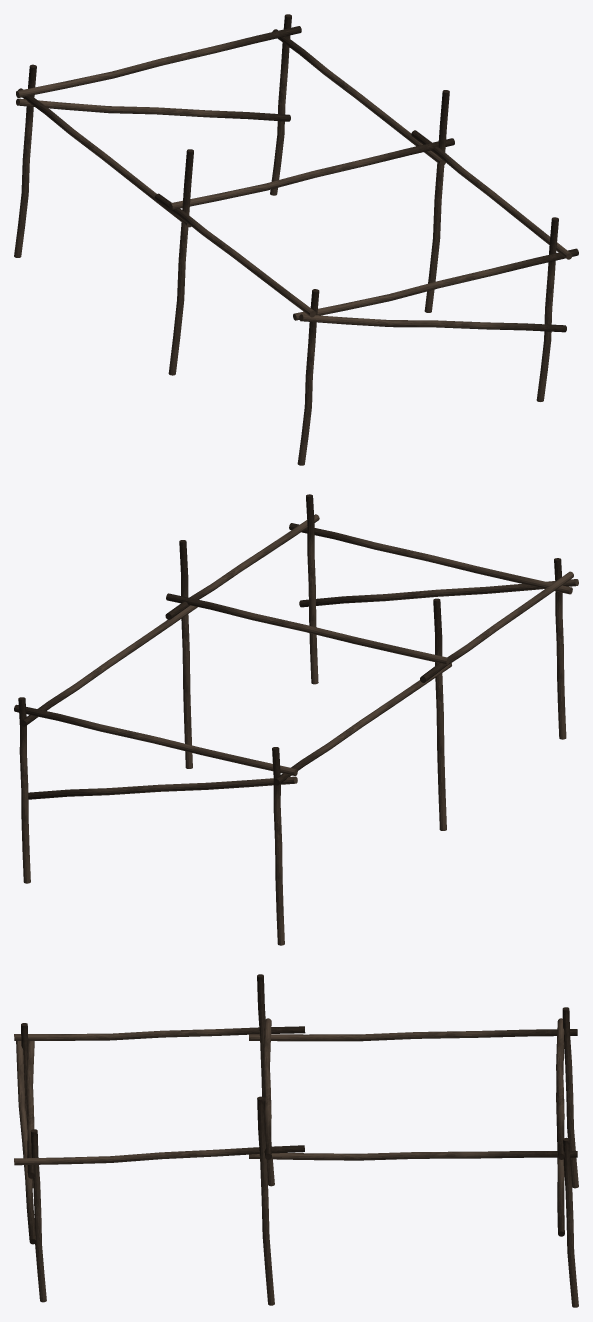
Rendered from MarketStand.fbx.
3 views of the same model, one above another, from view 1: azimuth 30°, elevation 25°; view 2: azimuth 150°, elevation 25°; view 3: azimuth 270°, elevation 25° (orthographic). The views are drawn at different scales.
Visible parts, largest first — view 1: MKScaff_PoleVer91_LOD0, MKScaff_PoleVer86_LOD0, MKScaff_PoleVer85_LOD0, MKScaff_PoleVer93_LOD0, MKScaff_PoleVer92_LOD0, MKScaff_PoleVer82_LOD0, MKScaff_PoleVer69_LOD0, MKScaff_PoleVer87_LOD0, MKScaff_PoleVer90_LOD0, MKScaff_PoleVer89_LOD0, MKScaff_PoleVer84_LOD0, MKScaff_PoleVer88_LOD0 (+3 smaller); view 2: MKScaff_PoleVer86_LOD0, MKScaff_PoleVer91_LOD0, MKScaff_PoleVer85_LOD0, MKScaff_PoleVer92_LOD0, MKScaff_PoleVer93_LOD0, MKScaff_PoleVer82_LOD0, MKScaff_PoleVer69_LOD0, MKScaff_PoleVer84_LOD0, MKScaff_PoleVer90_LOD0, MKScaff_PoleVer71_LOD0, MKScaff_PoleVer81_LOD0, MKScaff_PoleVer88_LOD0 (+3 smaller); view 3: MKScaff_PoleVer88_LOD0, MKScaff_PoleVer90_LOD0, MKScaff_PoleVer89_LOD0, MKScaff_PoleVer87_LOD0, MKScaff_PoleVer69_LOD0, MKScaff_PoleVer93_LOD0, MKScaff_PoleVer81_LOD0, MKScaff_PoleVer84_LOD0, MKScaff_PoleVer71_LOD0, MKScaff_PoleVer91_LOD0, MKScaff_PoleVer86_LOD0, MKScaff_PoleVer85_LOD0 (+2 smaller).
Boxes of the visible parts, x1,y1,x2,y2 form: MKScaff_PoleVer91_LOD0: [16, 26, 301, 97]; MKScaff_PoleVer86_LOD0: [169, 138, 454, 210]; MKScaff_PoleVer85_LOD0: [293, 248, 578, 320]; MKScaff_PoleVer93_LOD0: [299, 314, 566, 332]; MKScaff_PoleVer92_LOD0: [16, 98, 290, 121]; MKScaff_PoleVer82_LOD0: [168, 149, 193, 375]; MKScaff_PoleVer69_LOD0: [424, 90, 449, 312]; MKScaff_PoleVer87_LOD0: [154, 193, 315, 317]; MKScaff_PoleVer90_LOD0: [272, 29, 445, 165]; MKScaff_PoleVer89_LOD0: [411, 130, 572, 259]; MKScaff_PoleVer84_LOD0: [14, 64, 36, 257]; MKScaff_PoleVer88_LOD0: [17, 88, 191, 227]; MKScaff_PoleVer86_LOD0: [166, 593, 449, 664]; MKScaff_PoleVer91_LOD0: [14, 704, 297, 775]; MKScaff_PoleVer85_LOD0: [289, 523, 572, 594]; MKScaff_PoleVer92_LOD0: [28, 776, 297, 799]; MKScaff_PoleVer93_LOD0: [299, 579, 578, 607]; MKScaff_PoleVer82_LOD0: [433, 598, 446, 830]; MKScaff_PoleVer69_LOD0: [179, 540, 192, 768]; MKScaff_PoleVer84_LOD0: [272, 747, 284, 945]; MKScaff_PoleVer90_LOD0: [20, 605, 197, 726]; MKScaff_PoleVer71_LOD0: [306, 494, 318, 684]; MKScaff_PoleVer81_LOD0: [18, 697, 30, 883]; MKScaff_PoleVer88_LOD0: [273, 663, 451, 785]; MKScaff_PoleVer88_LOD0: [249, 1029, 577, 1041]; MKScaff_PoleVer90_LOD0: [249, 1151, 577, 1160]; MKScaff_PoleVer89_LOD0: [14, 1145, 304, 1165]; MKScaff_PoleVer87_LOD0: [14, 1026, 305, 1040]; MKScaff_PoleVer69_LOD0: [257, 1096, 274, 1305]; MKScaff_PoleVer93_LOD0: [16, 1041, 36, 1244]; MKScaff_PoleVer81_LOD0: [563, 1137, 578, 1307]; MKScaff_PoleVer84_LOD0: [562, 1007, 578, 1188]; MKScaff_PoleVer71_LOD0: [30, 1129, 46, 1302]; MKScaff_PoleVer91_LOD0: [556, 1018, 564, 1159]; MKScaff_PoleVer86_LOD0: [263, 1018, 271, 1159]; MKScaff_PoleVer85_LOD0: [26, 1041, 34, 1178].
Size of what is drawn, in the model's own units: 421 by 761 by 320.
1 material, 1 textured.
